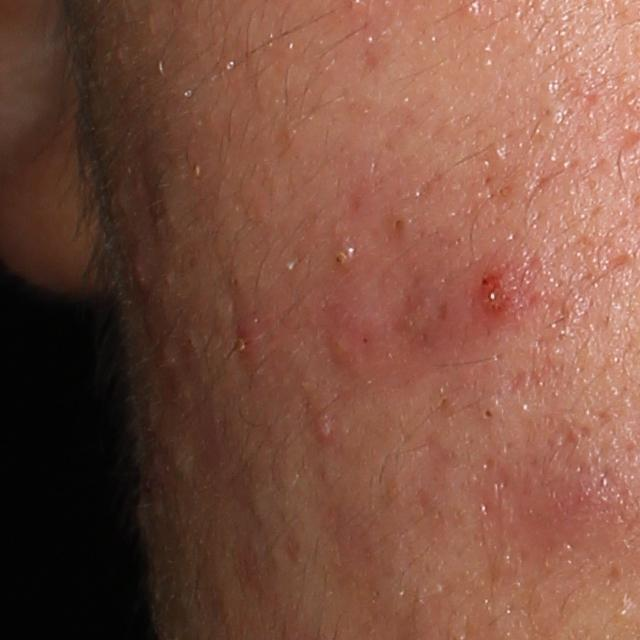comedo: (381, 206, 418, 248), (473, 396, 506, 429), (329, 241, 362, 274)
papule: (472, 258, 525, 331), (229, 280, 263, 377), (126, 253, 152, 292)
